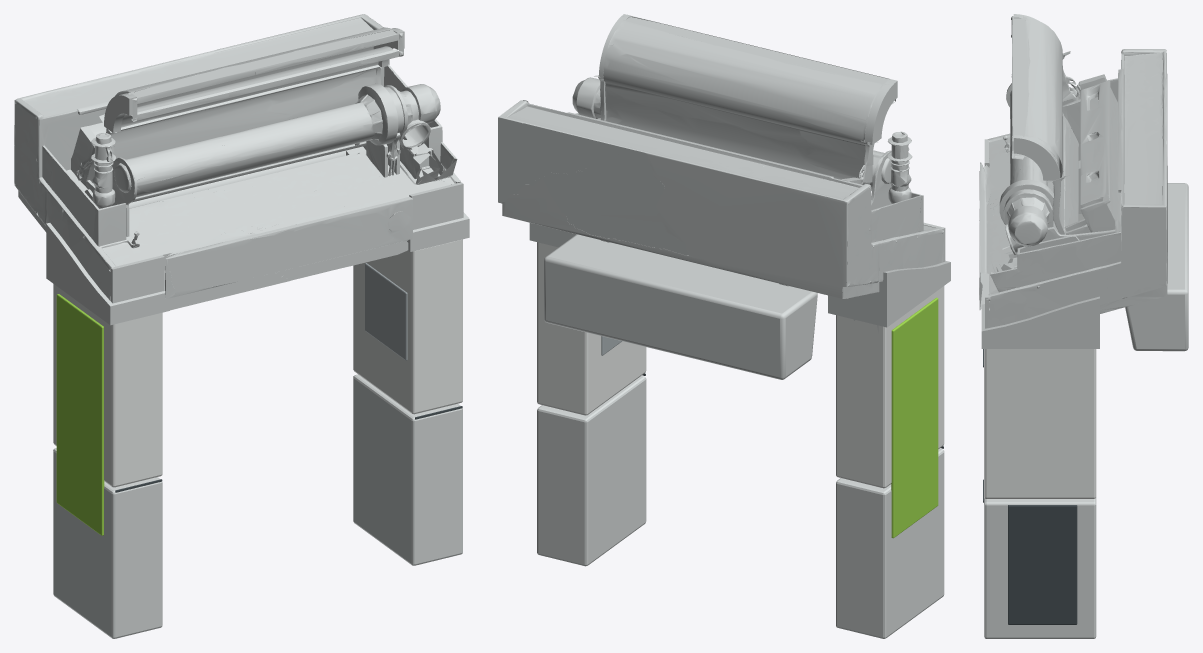
Rendered from JWF0019A-第14轮清除穿出白色排风管.glb.
The picture shows the model from 3 angles, left to right: view 1: azimuth 30°, elevation 25°; view 2: azimuth 150°, elevation 25°; view 3: azimuth 270°, elevation 25°; orthographic projection. The views are drawn at different scales.
Visible parts, largest first — view 1: 第10轮_母版保形上部外观_锁定, 右支腿_下柜体, 左支腿_下柜体, 右支腿_上柜体, 左支腿_上柜体, 左支腿_外侧绿色饰板, 右立柱_内侧电柜门, 第11轮_精灵眼前缘横向圆管, 第10轮_顶部左侧排风弯头_连续低模; view 2: 第10轮_母版保形上部外观_锁定, 第11轮_精灵眼悬挂直角梯形罩壳, 右支腿_下柜体, 左支腿_下柜体, 左支腿_上柜体, 左支腿_外侧绿色饰板, 右支腿_上柜体, 第10轮_顶部左侧排风弯头_连续低模; view 3: 第10轮_母版保形上部外观_锁定, 右支腿_上柜体, 右支腿_外侧散热面板, 右支腿_下柜体, 第11轮_精灵眼悬挂直角梯形罩壳, 第10轮_顶部排风弯头_连续低模.
Part boxes in pixels (<box>): 第10轮_母版保形上部外观_锁定: <box>14,14,469,325</box>; 右支腿_下柜体: <box>353,374,462,565</box>; 左支腿_下柜体: <box>53,448,162,638</box>; 右支腿_上柜体: <box>353,239,462,414</box>; 左支腿_上柜体: <box>53,284,162,487</box>; 左支腿_外侧绿色饰板: <box>56,294,104,535</box>; 右立柱_内侧电柜门: <box>365,263,407,360</box>; 第11轮_精灵眼前缘横向圆管: <box>129,151,345,208</box>; 第10轮_顶部左侧排风弯头_连续低模: <box>104,93,136,132</box>; 第10轮_母版保形上部外观_锁定: <box>498,14,950,333</box>; 第11轮_精灵眼悬挂直角梯形罩壳: <box>544,234,817,379</box>; 右支腿_下柜体: <box>537,376,646,566</box>; 左支腿_下柜体: <box>836,448,944,638</box>; 左支腿_上柜体: <box>836,286,944,488</box>; 左支腿_外侧绿色饰板: <box>891,297,938,538</box>; 右支腿_上柜体: <box>537,242,646,415</box>; 第10轮_顶部左侧排风弯头_连续低模: <box>864,79,897,144</box>; 第10轮_母版保形上部外观_锁定: <box>979,16,1167,348</box>; 右支腿_上柜体: <box>984,349,1096,498</box>; 右支腿_外侧散热面板: <box>1008,505,1077,624</box>; 右支腿_下柜体: <box>984,497,1096,638</box>; 第11轮_精灵眼悬挂直角梯形罩壳: <box>1125,183,1188,351</box>; 第10轮_顶部排风弯头_连续低模: <box>1013,135,1060,180</box>.
Bounding box in the file's own units: 3.2 × 4.44 × 1.75.
